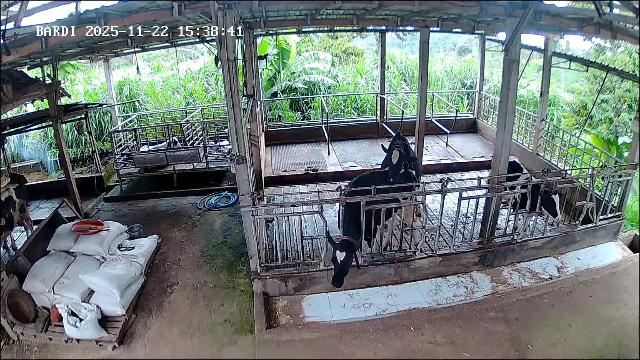mounting: (379, 133, 422, 217)
